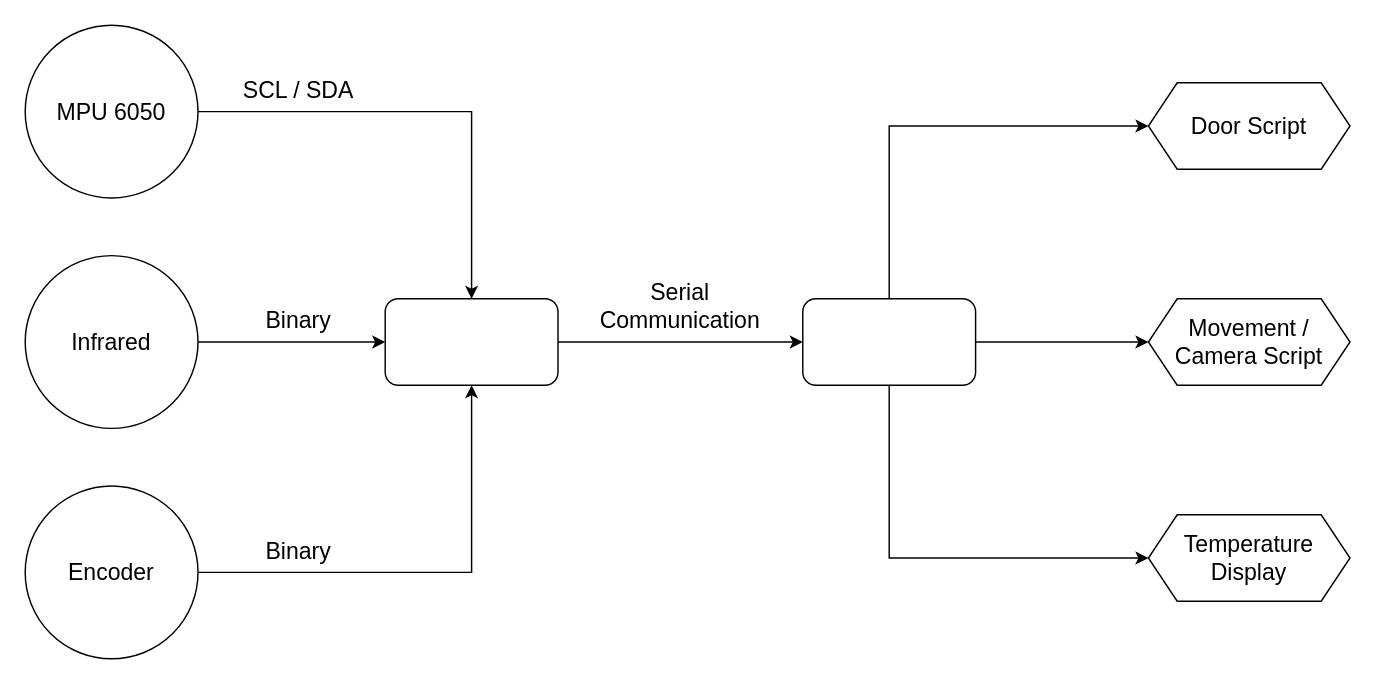
Some shapes in this 1375 by 684 pixel diagram are drawn without their labels. Here are the shapes that lost their labels. From the top down, the centre of each, then its label:
point 471,341: ESP 8266
point 888,341: Unity Serial Script
